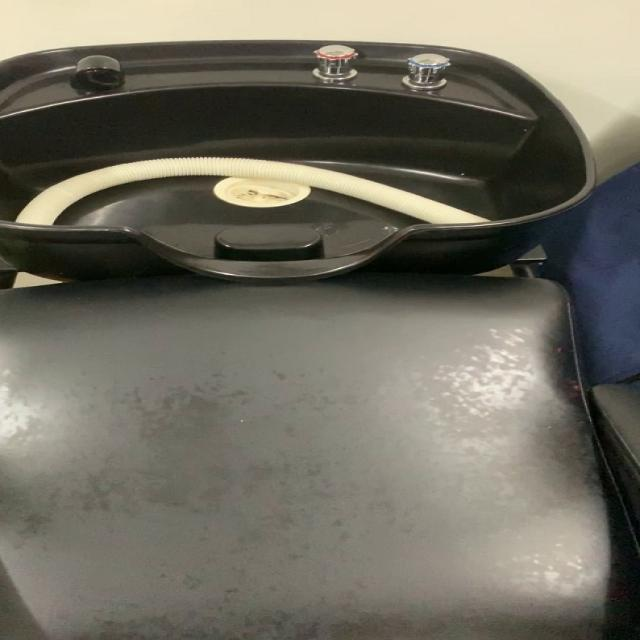Chair: (9, 34, 640, 640)
